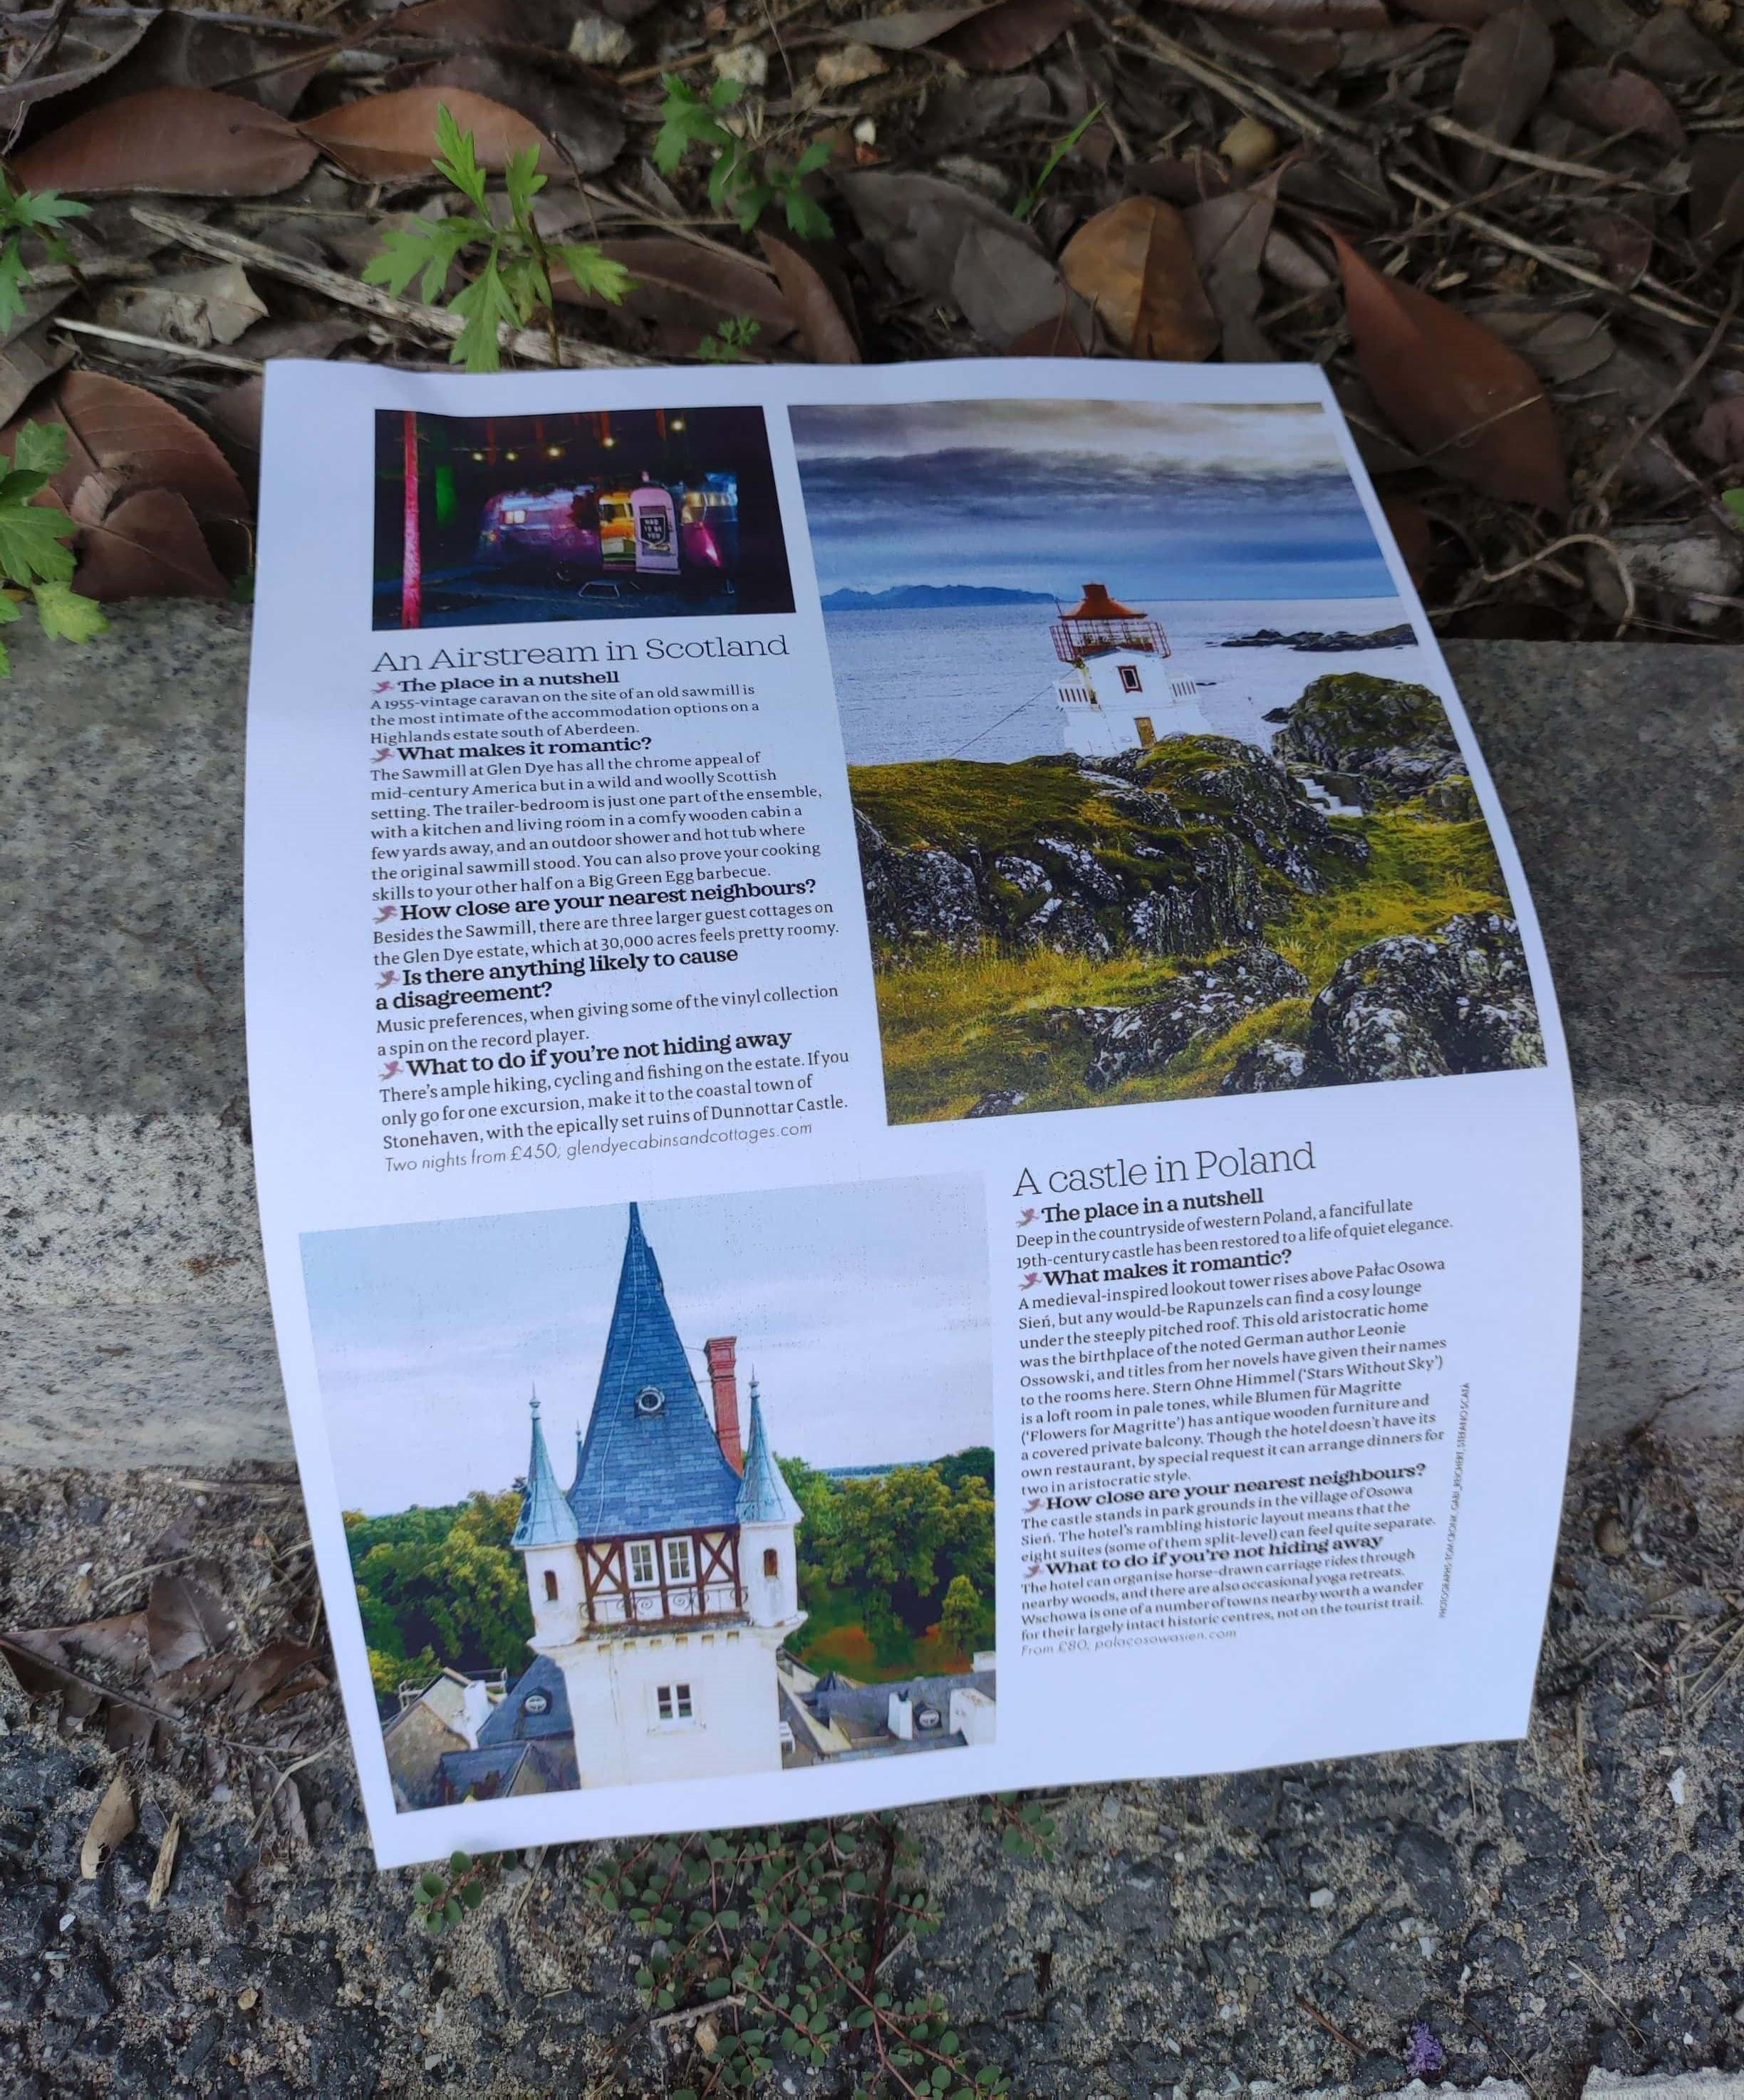paper: (85, 206, 1744, 2100)
